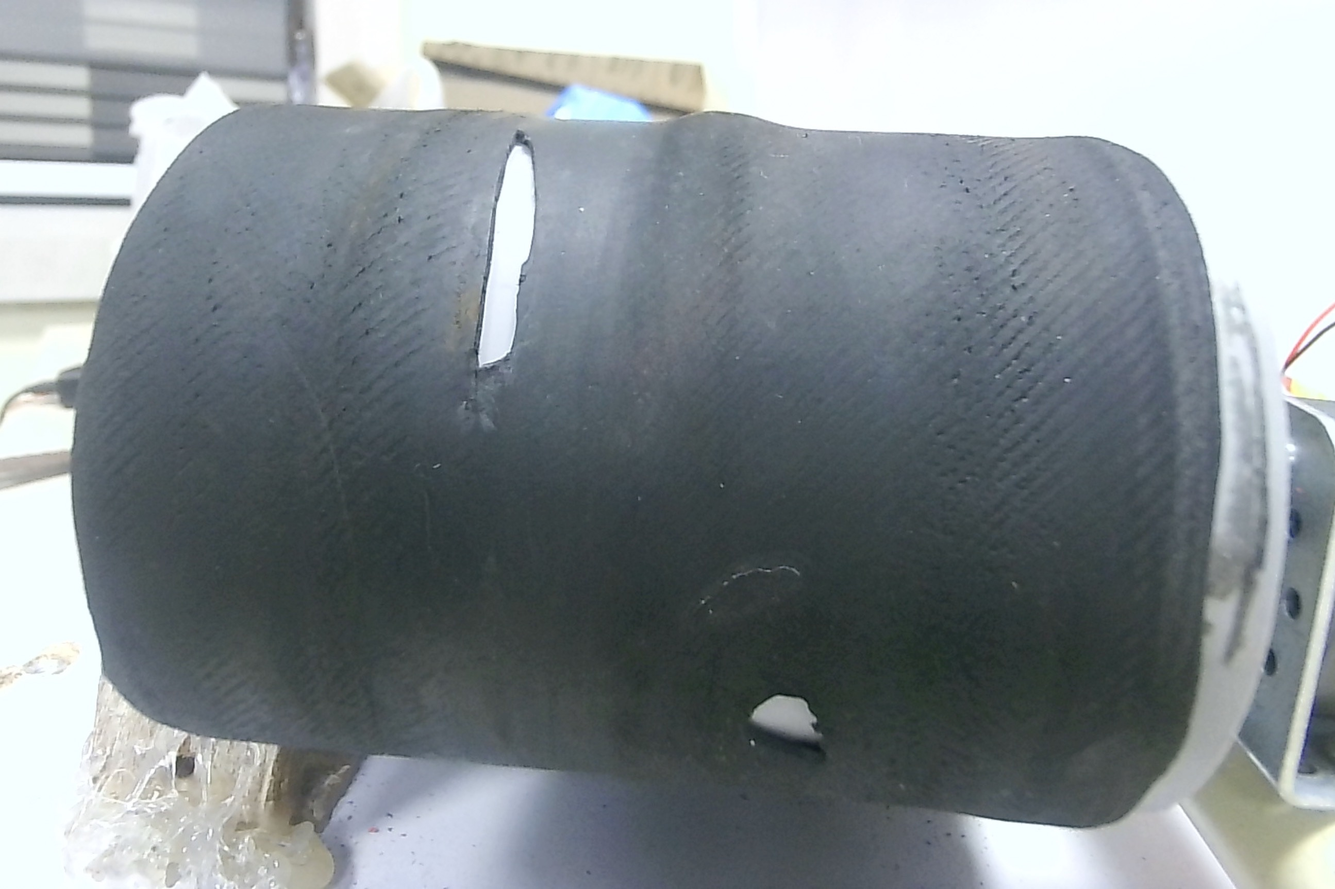hole: (733, 680, 835, 760)
tear: (467, 115, 557, 370)
